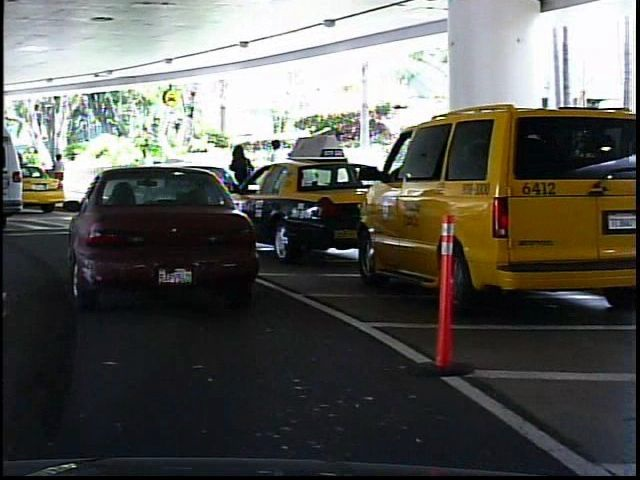person: (225, 138, 260, 215), (264, 136, 292, 212), (133, 143, 157, 204), (49, 150, 71, 197)
